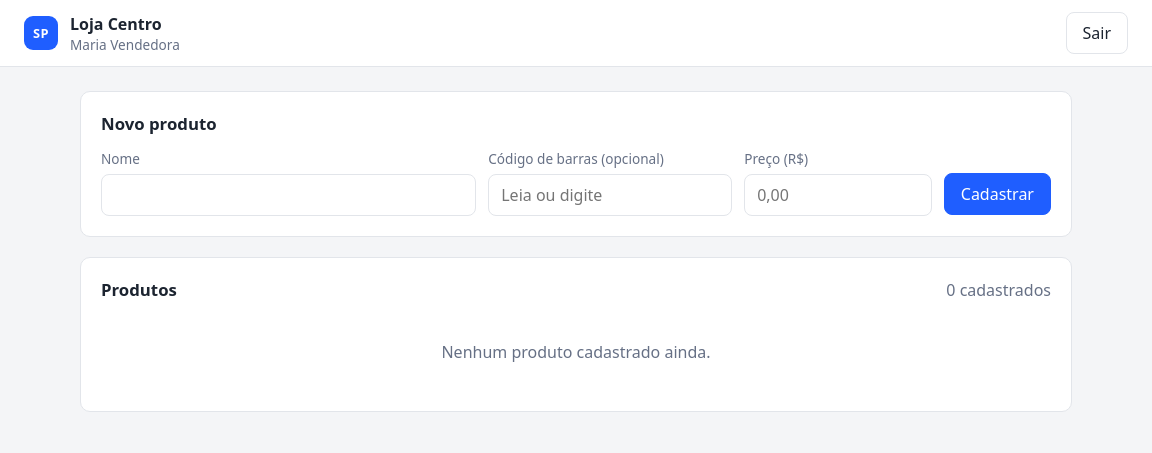
Scenario: TelaProdutos › mostra erro de campo vindo da API (código de barras repetido)
Type "Coleira azul" into the field labelled "Nome". click: (289, 195)
box: [101, 174, 476, 216]
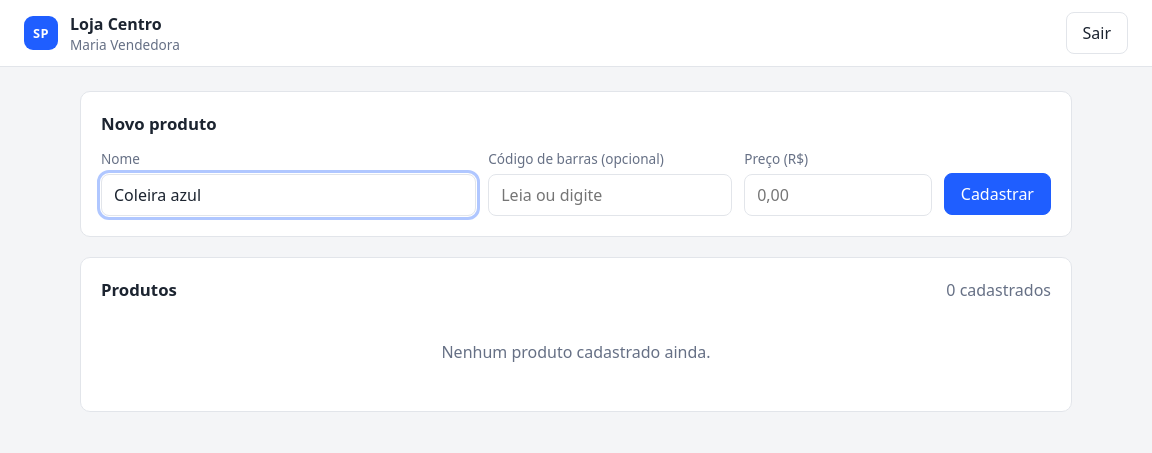
Type "789" into the field labelled "Código de barras (opcional)". click: (610, 195)
box: [488, 174, 732, 216]
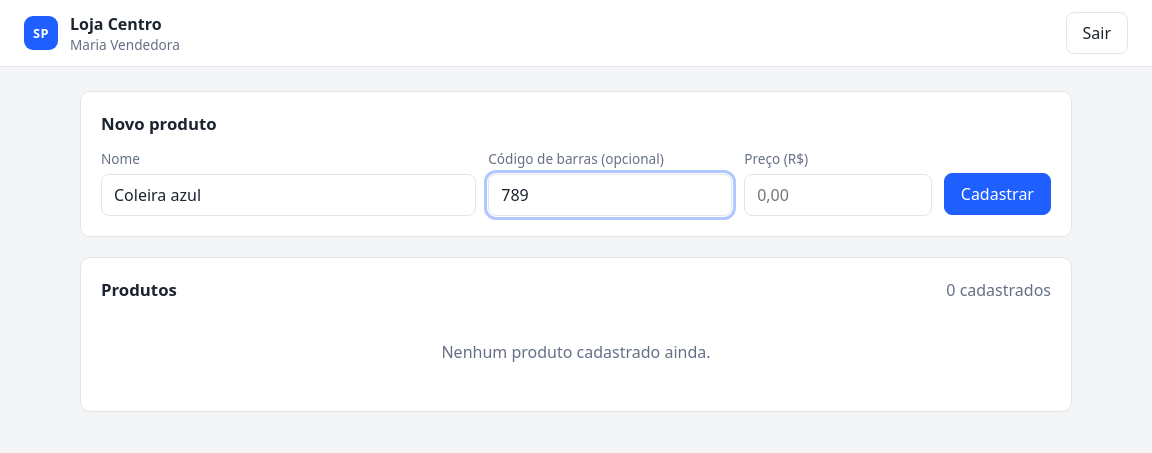
Type "35" into the field labelled "Preço (R$)". click: (838, 195)
box: [744, 174, 932, 216]
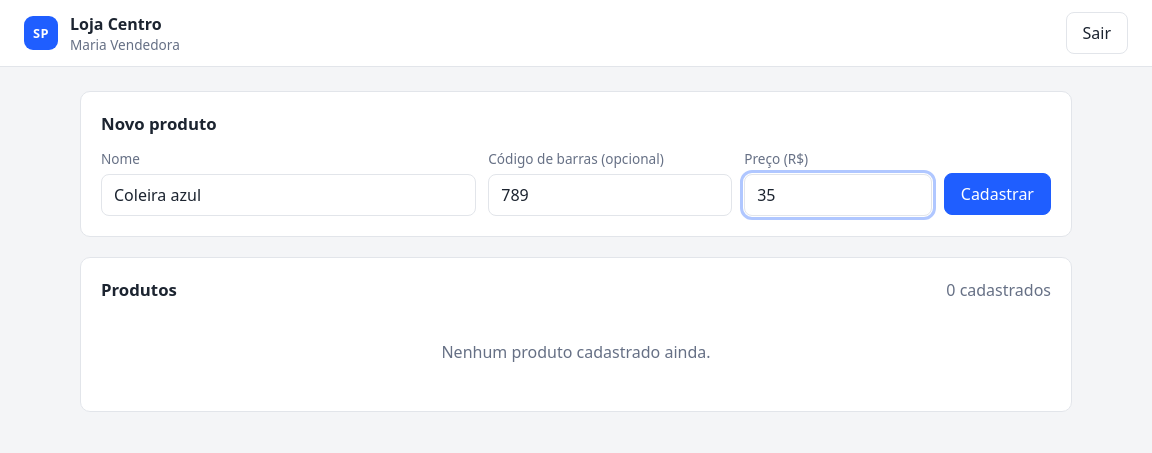
Click the button "Cadastrar". click: (997, 194)
box: [944, 173, 1051, 215]
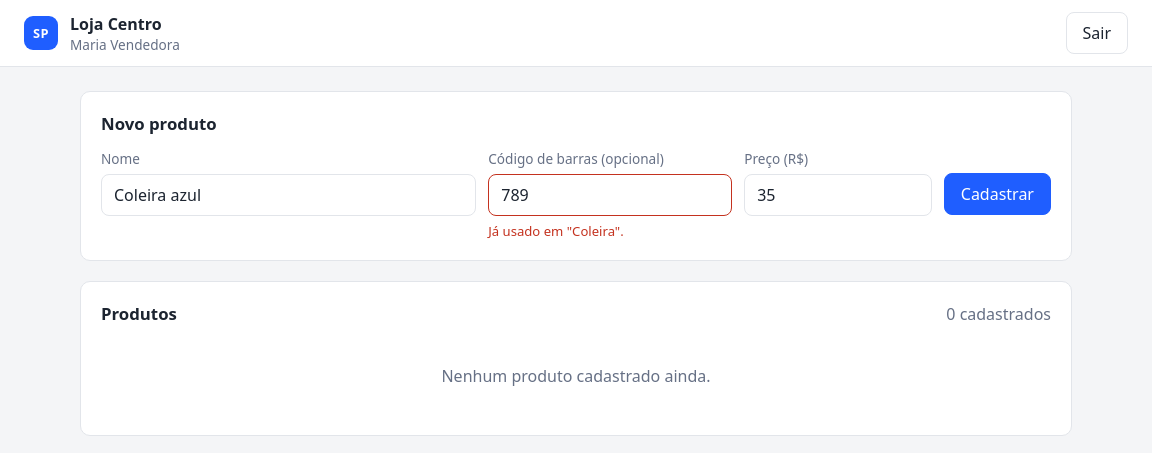
Now the text "Já usado em \"Coleira\"." is shown, box [488, 222, 624, 240]
